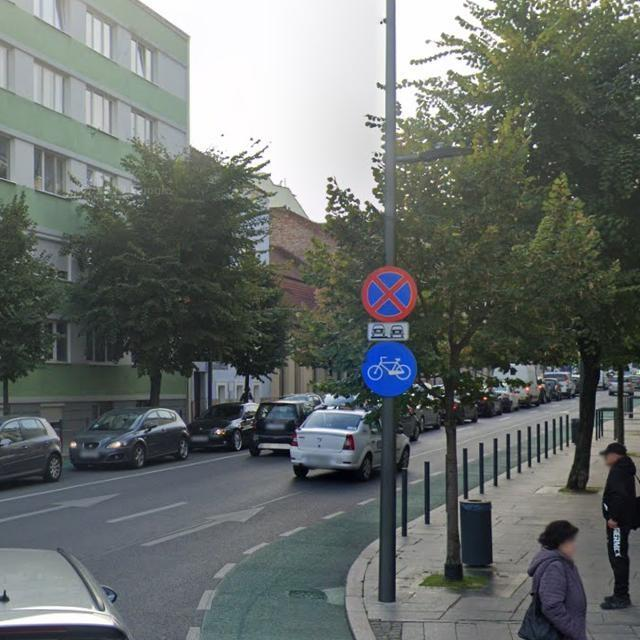forb_waiting: (361, 266, 419, 323)
